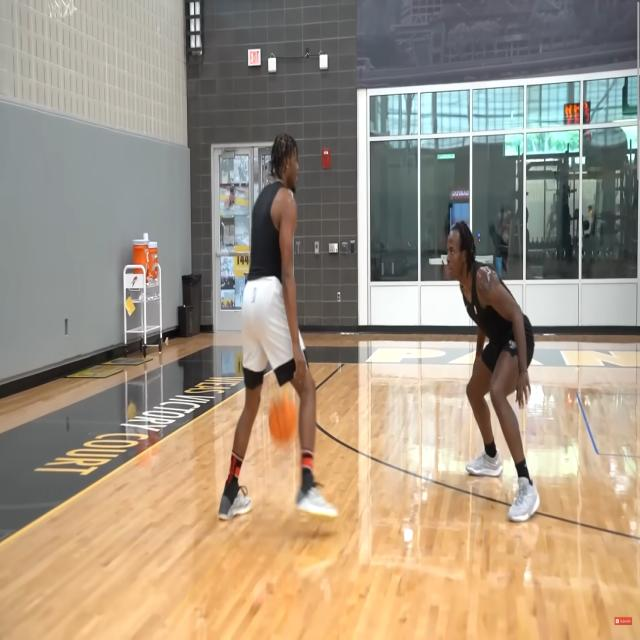Basketball: (270, 393, 297, 442)
